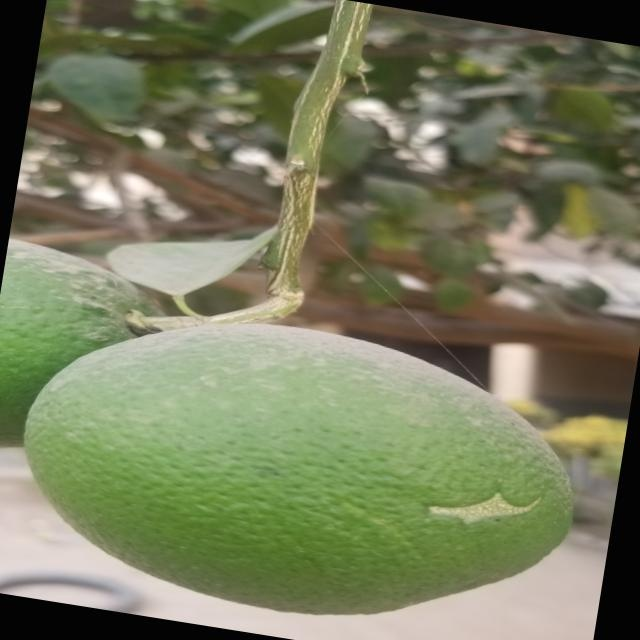agrume: (0, 288, 592, 640), (0, 234, 171, 476)
